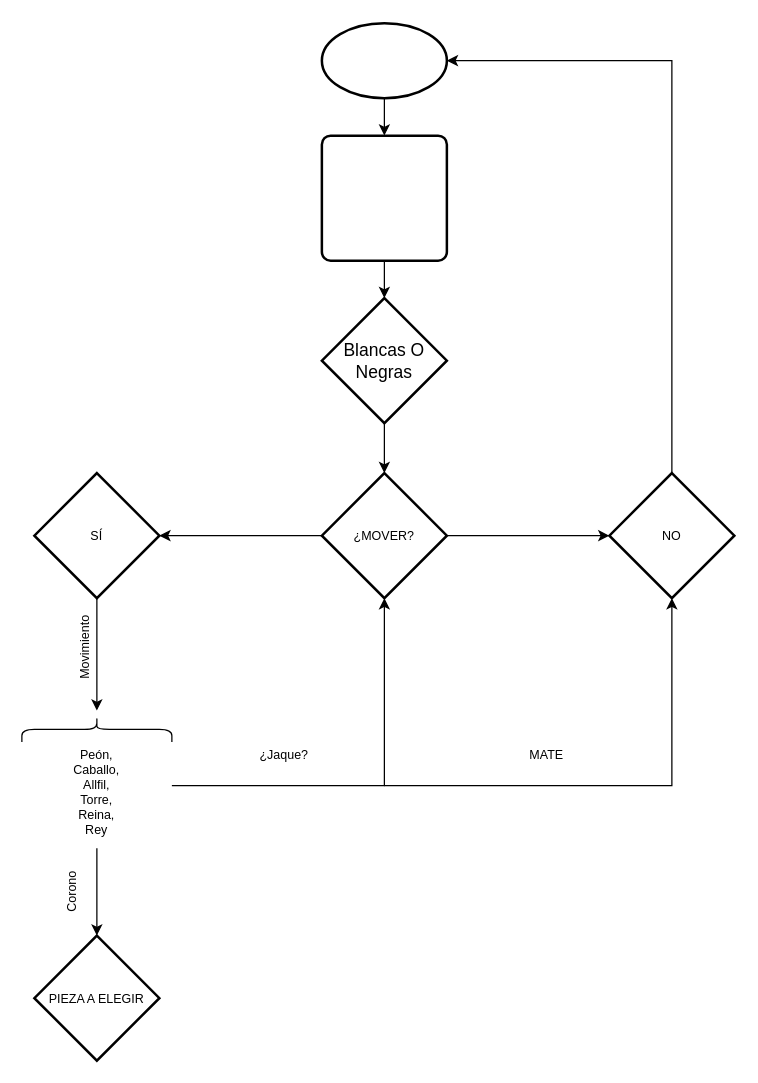
Image size: 758x1083. Some labels were removed from this diagram. Here are the shapes that lost their labels. From the top down, the box of each, then its label:
(320, 21, 448, 99): INICIO
(320, 134, 448, 261): Menú principal (inicio de partida)
